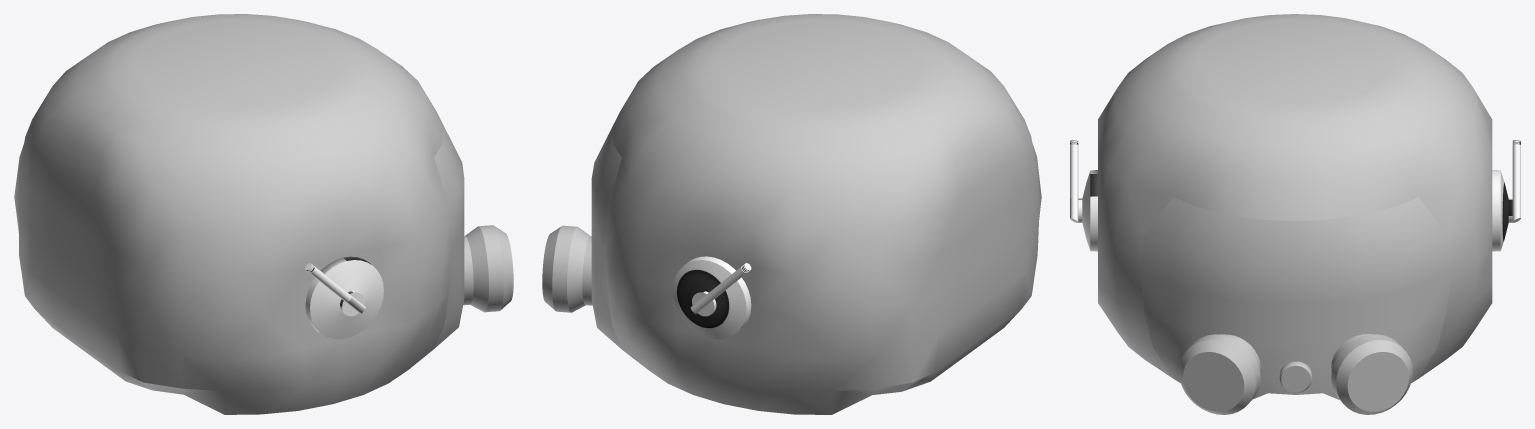
The model's file is custom_helmet.obj.
3 views of the same model, side by side, from view 1: azimuth 30°, elevation 25°; view 2: azimuth 150°, elevation 25°; view 3: azimuth 270°, elevation 25° (orthographic). The views are drawn at different scales.
Parts seen in each view (by area): view 1: Helmet_draconic_helmet.001, Respirator2_Cylinder.003, Earpiece1_Cylinder.005; view 2: Helmet_draconic_helmet.001, Respirator2_Cylinder.003, Earpiece1_Cylinder.005; view 3: Helmet_draconic_helmet.001, Respirator2_Cylinder.003, Earpiece1_Cylinder.005.
Part boxes in pixels (x1,y1,x2,y2): Helmet_draconic_helmet.001: (14, 14, 451, 414); Respirator2_Cylinder.003: (434, 115, 513, 348); Earpiece1_Cylinder.005: (305, 256, 383, 339); Helmet_draconic_helmet.001: (604, 14, 1041, 414); Respirator2_Cylinder.003: (542, 114, 621, 349); Earpiece1_Cylinder.005: (672, 256, 751, 339); Helmet_draconic_helmet.001: (1098, 14, 1492, 378); Respirator2_Cylinder.003: (1140, 197, 1451, 414); Earpiece1_Cylinder.005: (1070, 139, 1520, 251).
Bounding box in the file's own units: 10.76 × 7 × 11.02.
